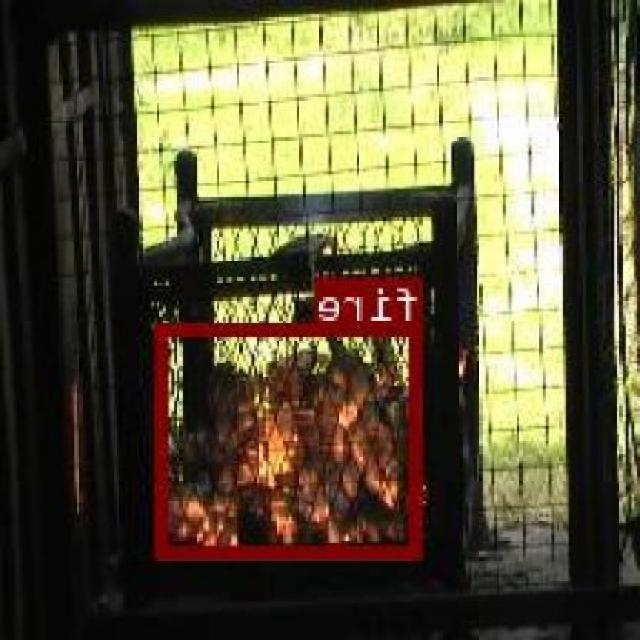Fire: (160, 320, 423, 558)
